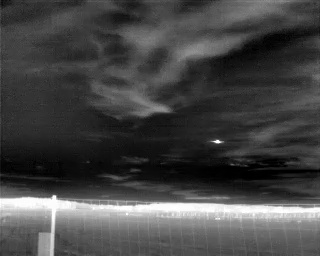AIRPLANE: (208, 136, 226, 147)
